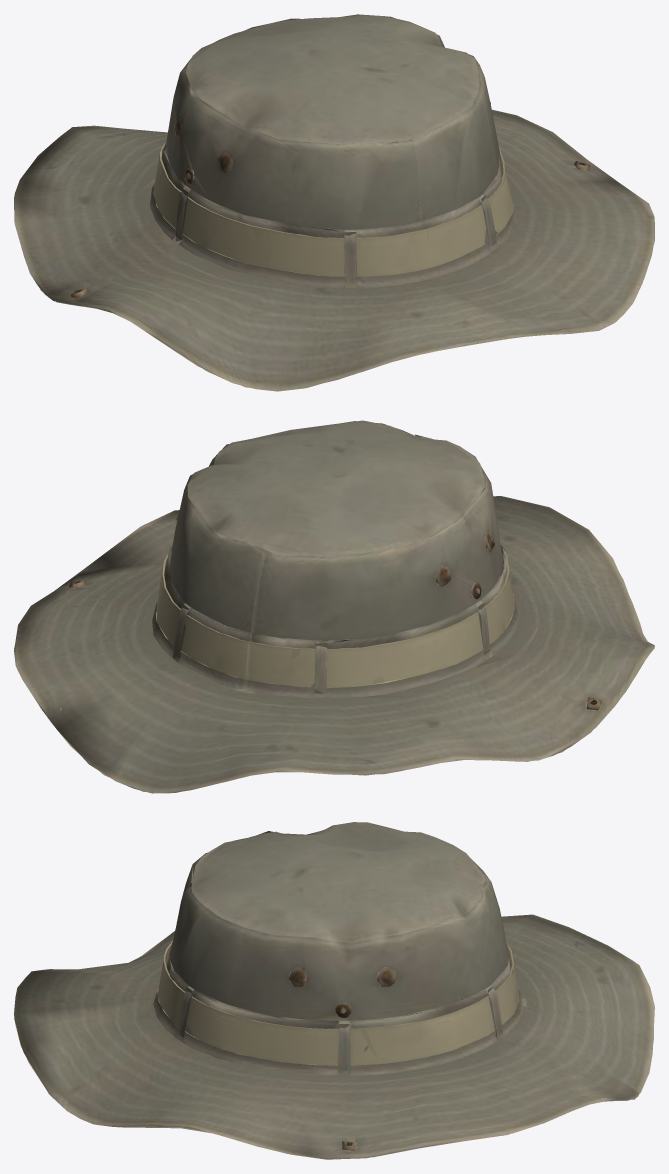
The model's file is chapeu.glb.
3 renders of one model, top to bottom at view 1: azimuth 30°, elevation 25°; view 2: azimuth 150°, elevation 25°; view 3: azimuth 270°, elevation 25°, orthographic. The views are drawn at different scales.
Visible parts, largest first — view 1: chapeu; view 2: chapeu; view 3: chapeu.
Part boxes in pixels (bbox=[...]): chapeu: bbox=[14, 14, 654, 391]; chapeu: bbox=[14, 420, 654, 793]; chapeu: bbox=[14, 822, 654, 1159].
Size of the model in its own units: 0.3239 by 0.1242 by 0.35.
1 material, 1 textured.
